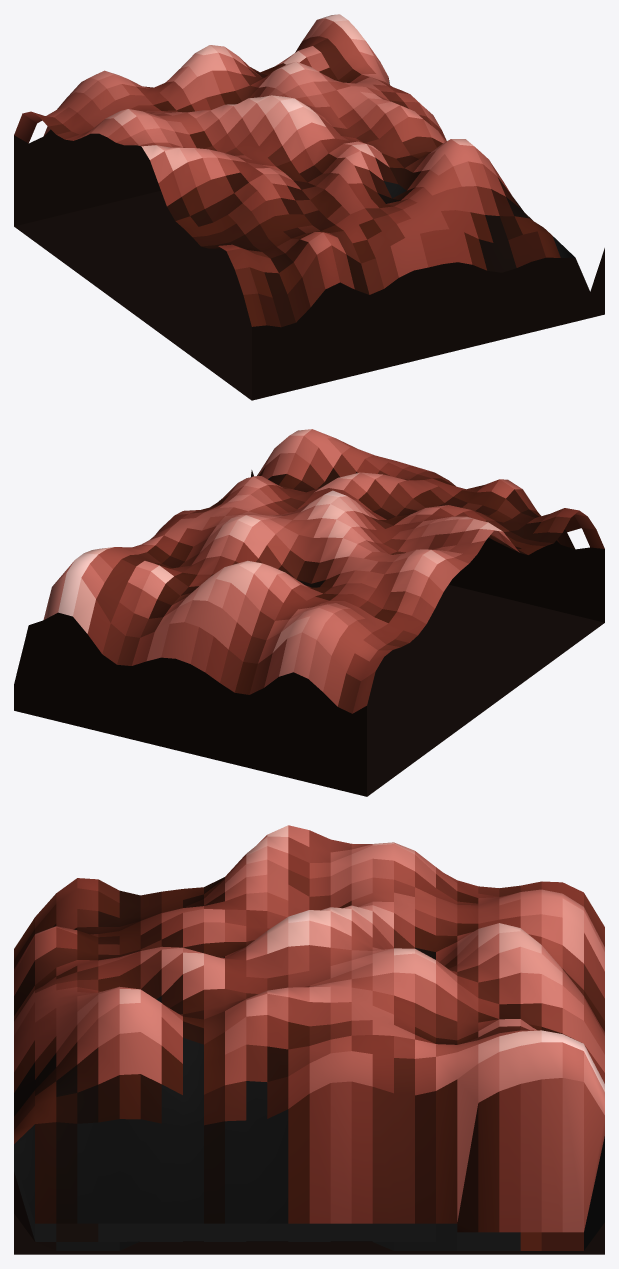
The model's file is newsh5-235.glb.
3 views of the same model, one above another, from view 1: azimuth 30°, elevation 25°; view 2: azimuth 150°, elevation 25°; view 3: azimuth 270°, elevation 25° (orthographic). The views are drawn at different scales.
Visible parts, largest first — view 1: newsh5-235; view 2: newsh5-235; view 3: newsh5-235.
Boxes of the visible parts, x1,y1,x2,y2 form: newsh5-235: (14,14,604,400); newsh5-235: (14,429,604,796); newsh5-235: (14,825,604,1254).
Size of the model in its own units: 2 by 0.9582 by 2.33.
